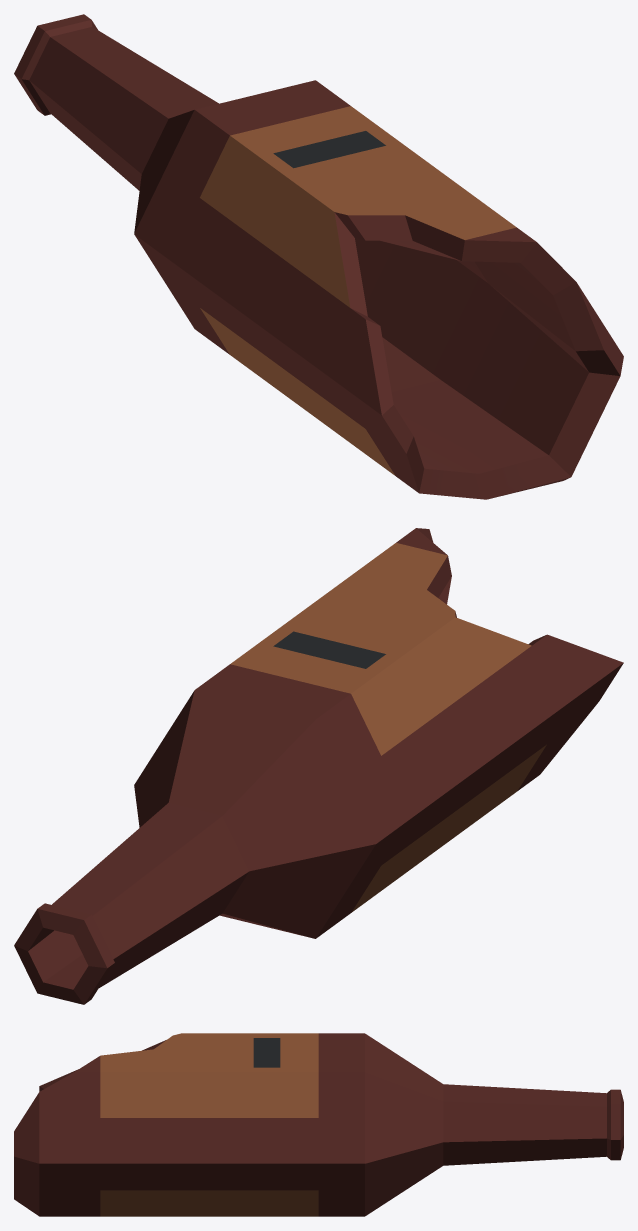
Rendered from SM_Item_Alcohol_Broken_02.obj.
3 views of the same model, one above another, from view 1: azimuth 30°, elevation 25°; view 2: azimuth 150°, elevation 25°; view 3: azimuth 270°, elevation 25° (orthographic). The views are drawn at different scales.
Parts seen in each view (by area): view 1: SM_Item_Alcohol_Broken_02_0; view 2: SM_Item_Alcohol_Broken_02_0; view 3: SM_Item_Alcohol_Broken_02_0.
Part boxes in pixels (bbox=[...]): SM_Item_Alcohol_Broken_02_0: bbox=[14, 14, 623, 499]; SM_Item_Alcohol_Broken_02_0: bbox=[14, 528, 623, 1004]; SM_Item_Alcohol_Broken_02_0: bbox=[14, 1033, 623, 1216].
Size of the model in its own units: 0.1414 by 0.1225 by 0.4694.
1 material, 1 textured.
